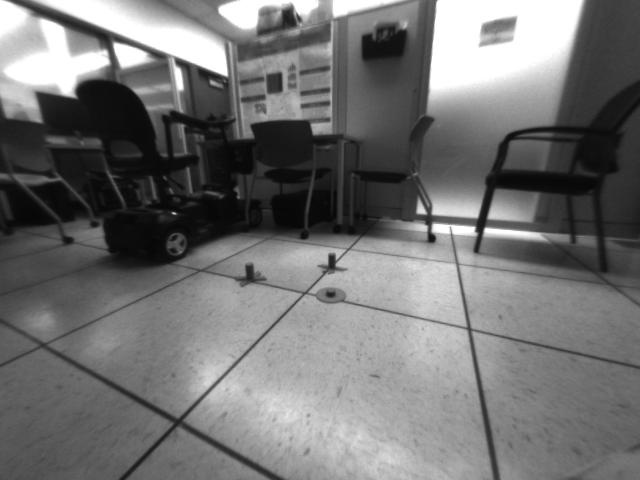X: (234, 259, 267, 286), (314, 250, 347, 274)
